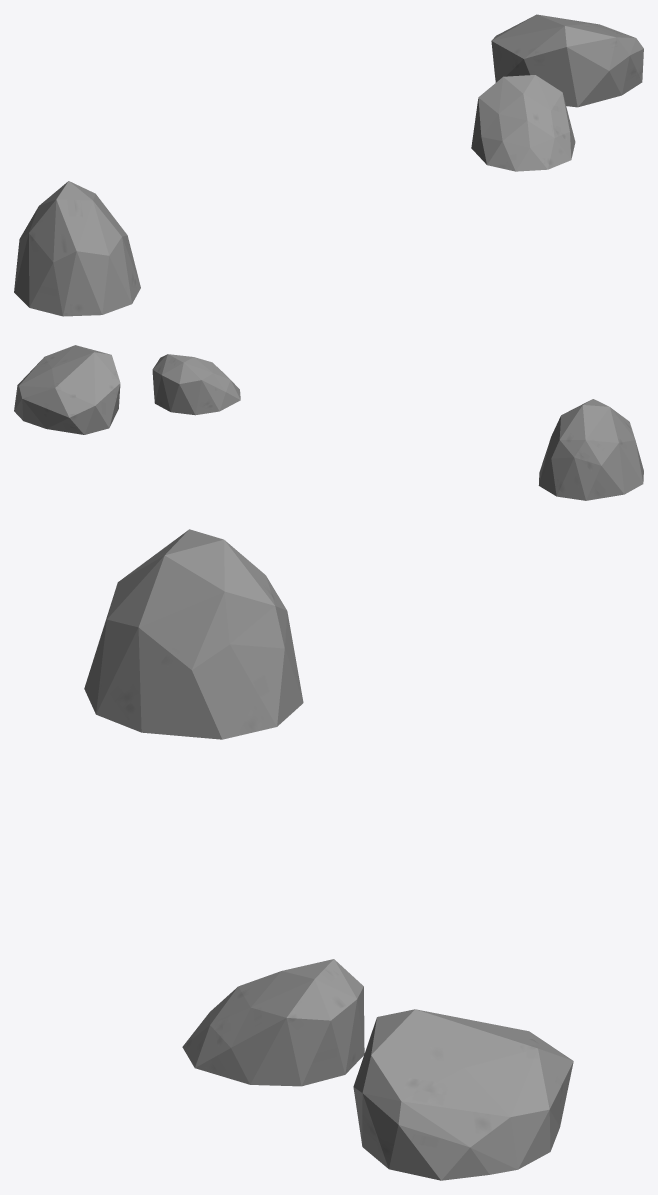
Rendered from Stones9.gltf.
3 views of the same model, one above another, from view 1: azimuth 30°, elevation 25°; view 2: azimuth 150°, elevation 25°; view 3: azimuth 270°, elevation 25° (orthographic). The views are drawn at different scales.
Parts seen in each view (by area): view 1: Stone2.002 - copy.007, Stone4 - copy.005, Stone1.004 - copy.007; view 2: Stone2.002 - copy.007, Stone4 - copy.005, Stone1.004 - copy.007; view 3: Stone2.002 - copy.007, Stone4 - copy.005, Stone1.004 - copy.007.
Part boxes in pixels (<box>): Stone2.002 - copy.007: <box>14,181,140,316</box>; Stone4 - copy.005: <box>491,14,643,107</box>; Stone1.004 - copy.007: <box>471,75,575,171</box>; Stone2.002 - copy.007: <box>538,399,643,500</box>; Stone4 - copy.005: <box>14,345,120,434</box>; Stone1.004 - copy.007: <box>152,354,240,415</box>; Stone2.002 - copy.007: <box>84,529,303,739</box>; Stone4 - copy.005: <box>353,1009,573,1180</box>; Stone1.004 - copy.007: <box>182,959,364,1086</box>.
Size of the model in its own units: 10.38 by 1.41 by 3.98.
Materials: 3 (3 with a texture image).
